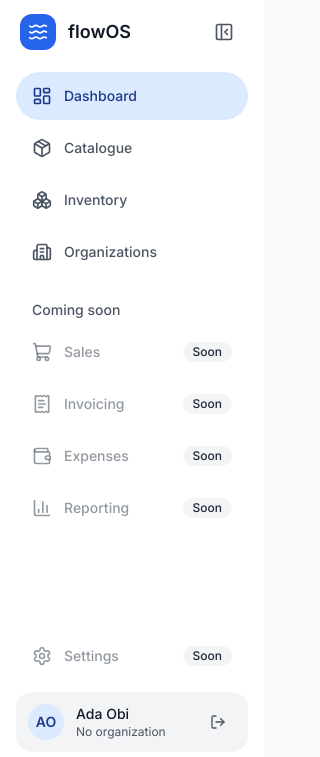
Test case: Sidebar › collapses to the icon rail and persists the choice
Expected: the text "Ada Obi" is shown, 76,705 -> 129,722
Expected: the text "Soon" next to "Sales" is shown, 192,344 -> 222,359
Click the button named "Collapse sidebar".
click(224, 32)  # box 204,12 -> 244,52
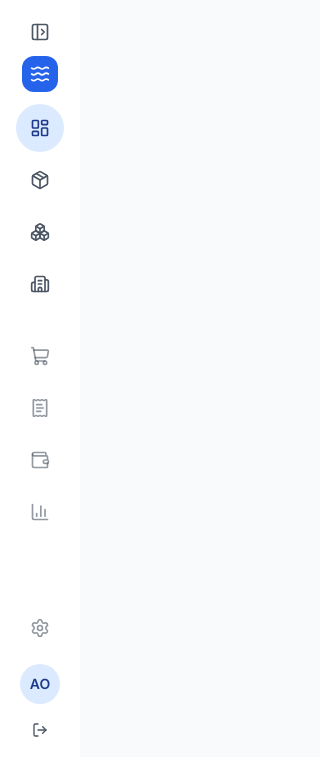
Result: the text "Ada Obi" is gone
Result: the button named "Expand sidebar" is shown at 20,12 -> 60,52
